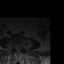CCS_normal: (17, 46, 19, 54)
LFS_normal: (21, 45, 22, 51)
LLS_normal: (19, 46, 20, 52)
RFS_normal: (13, 45, 15, 51)
RLS_normal: (15, 46, 17, 52)
